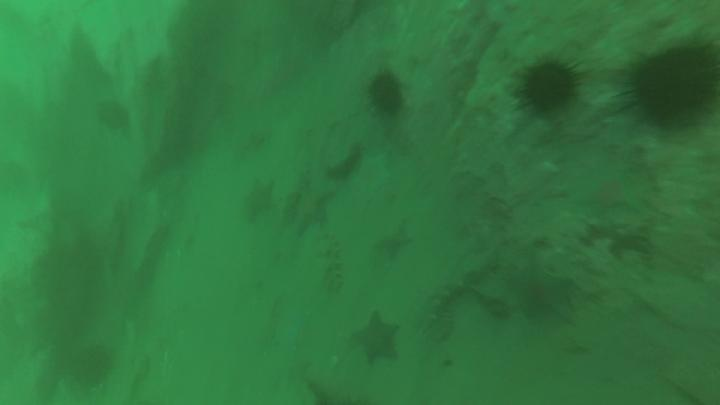echinus: (622, 46, 720, 129), (513, 55, 589, 117), (366, 66, 408, 119), (93, 94, 132, 135)
starfish: (505, 256, 581, 329), (349, 310, 405, 370), (598, 212, 657, 263), (286, 190, 338, 237), (239, 181, 280, 224), (378, 223, 416, 261)
